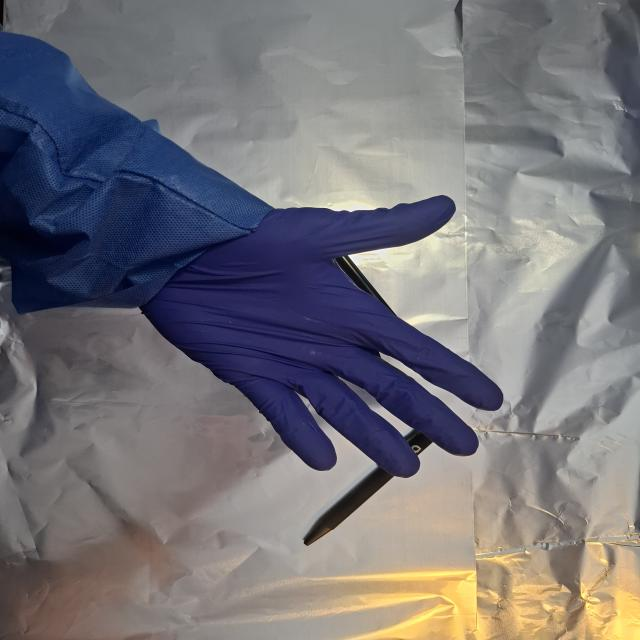glove_on: (136, 192, 506, 480)
